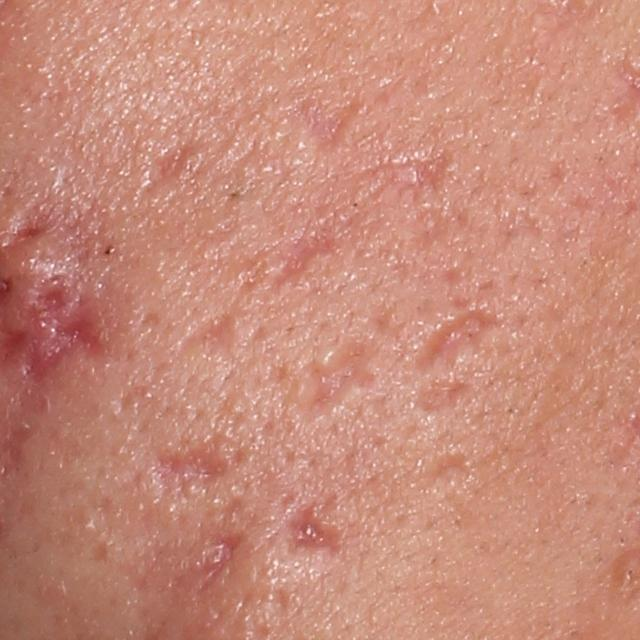atrophic_scar: (176, 225, 348, 363), (17, 278, 105, 389), (297, 330, 383, 421), (410, 307, 503, 380), (150, 433, 239, 492), (134, 139, 205, 206), (291, 97, 361, 156), (196, 528, 250, 598), (286, 497, 347, 556), (378, 150, 455, 192), (415, 378, 476, 413), (423, 453, 472, 489)
hypertrophic_scar: (313, 338, 344, 373)
